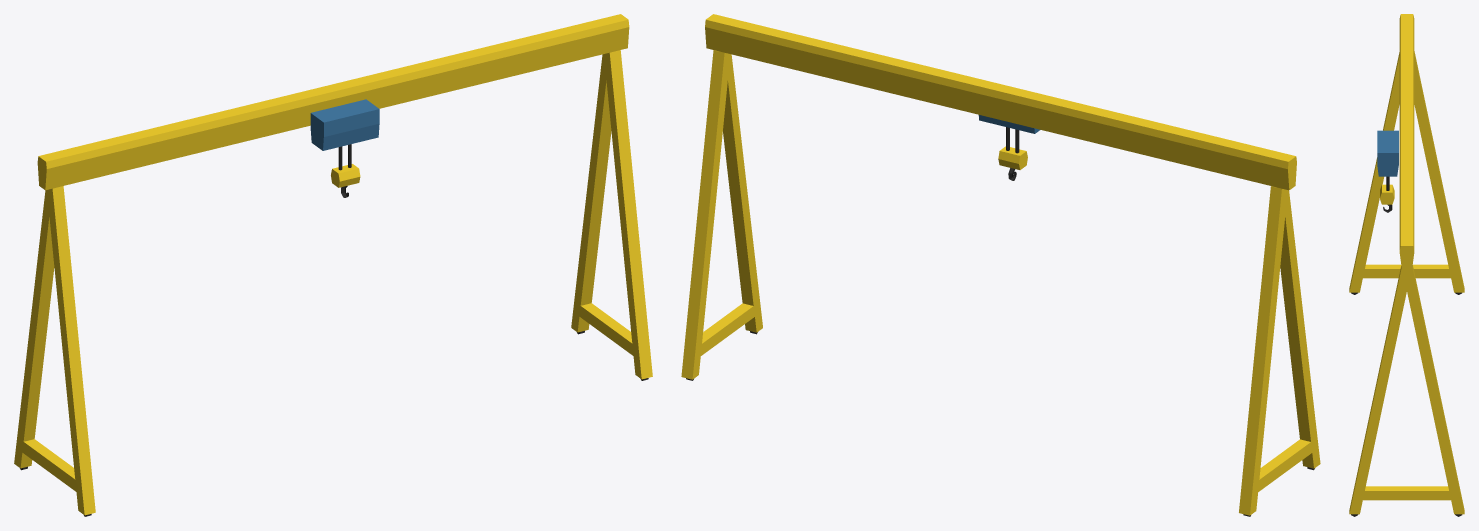
The model's file is props_crane-port.fbx.
3 renders of one model, left to right at view 1: azimuth 30°, elevation 25°; view 2: azimuth 150°, elevation 25°; view 3: azimuth 270°, elevation 25°, orthographic. The views are drawn at different scales.
Visible parts, largest first — view 1: props_crane_port; view 2: props_crane_port; view 3: props_crane_port.
Boxes of the visible parts, x1=… form: props_crane_port: x1=14, y1=14, x2=652, y2=516; props_crane_port: x1=681, y1=14, x2=1320, y2=516; props_crane_port: x1=1349, y1=14, x2=1464, y2=516.
Bounding box in the file's own units: 200 × 111 × 41.97.
